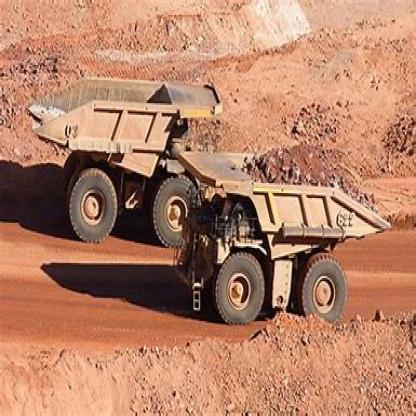dump_truck: (179, 137, 390, 321), (28, 60, 214, 240)
